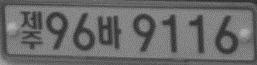1: (159, 14, 183, 53), (186, 13, 209, 53)
6: (71, 12, 95, 51), (214, 15, 238, 54)
9: (131, 14, 156, 52), (44, 10, 68, 49)
바: (97, 15, 122, 49)
제주_V: (19, 10, 43, 49)
